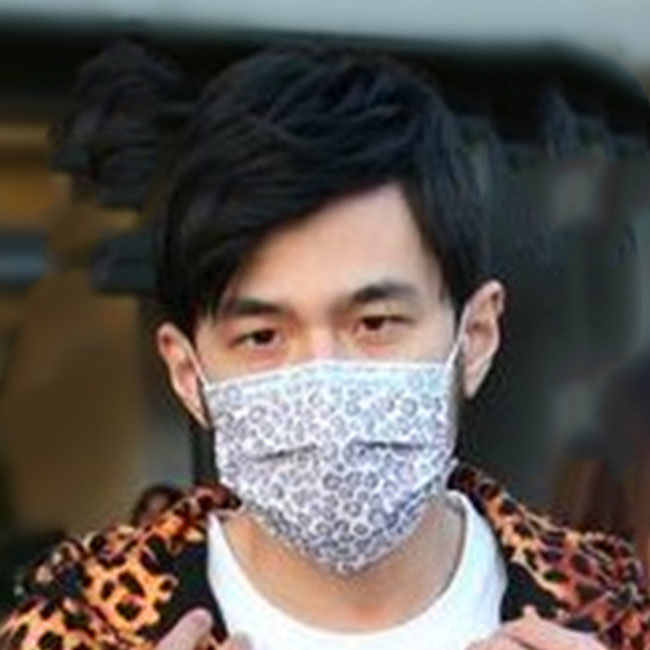face_mask: (205, 194, 449, 579)
